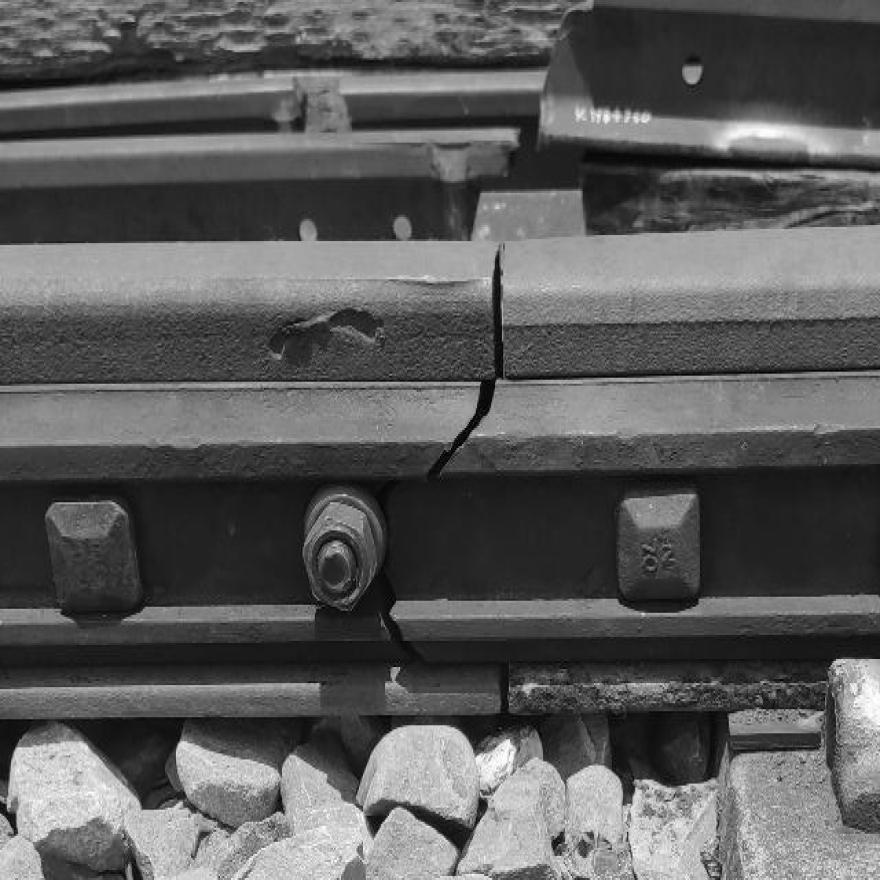railway-gap: (398, 169, 594, 440), (441, 601, 569, 766)
